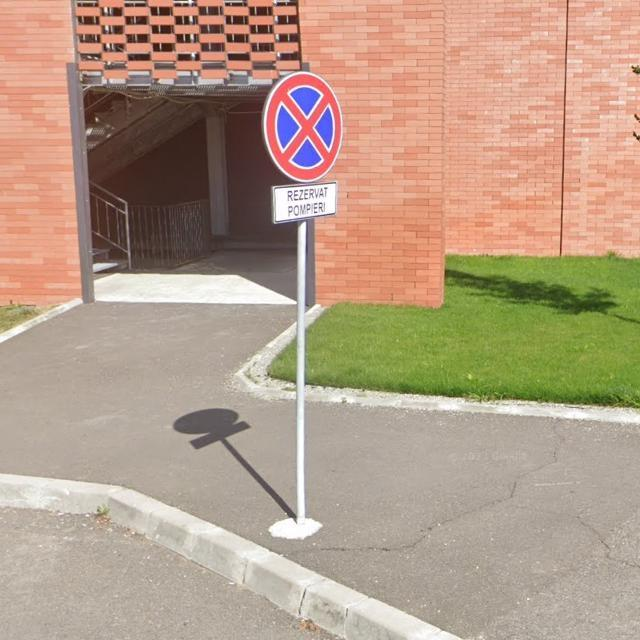forb_waiting: (264, 67, 347, 186)
